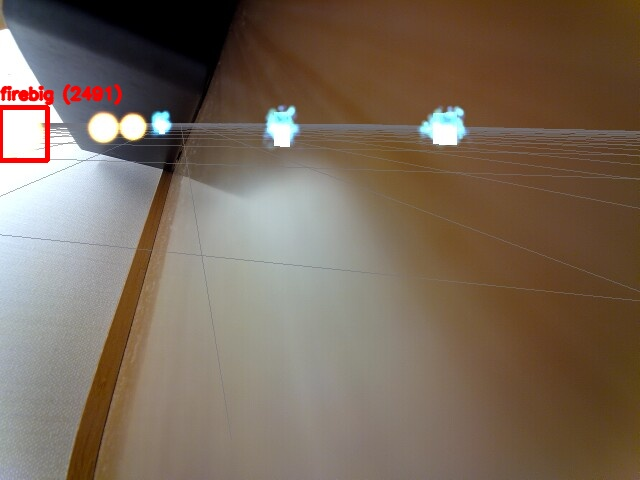firebig: (0, 107, 47, 160)
